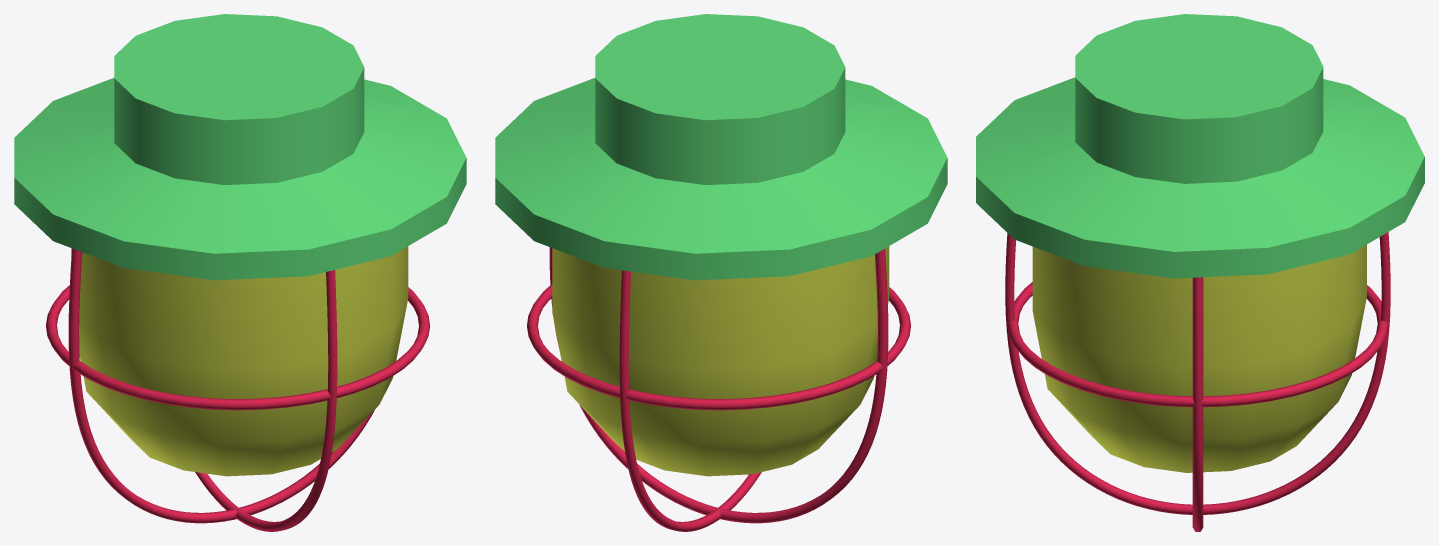
Rendered from svetlo_strop.fbx.
The picture shows the model from 3 angles, left to right: view 1: azimuth 30°, elevation 25°; view 2: azimuth 150°, elevation 25°; view 3: azimuth 270°, elevation 25°; orthographic projection.
Visible parts, largest first — view 1: Cylinder; view 2: Cylinder; view 3: Cylinder.
Part boxes in pixels (left/top/right/bottom): Cylinder: left=14, top=14, right=466, bottom=531; Cylinder: left=495, top=14, right=947, bottom=531; Cylinder: left=976, top=14, right=1424, bottom=531.
Size of the model in its own units: 23.42 by 25.61 by 23.29.
